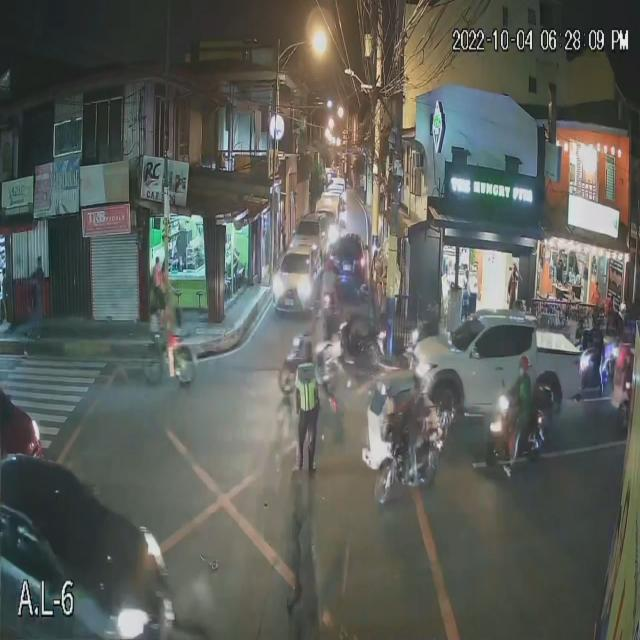Full-Faced: (517, 351, 532, 382), (325, 255, 336, 280)
